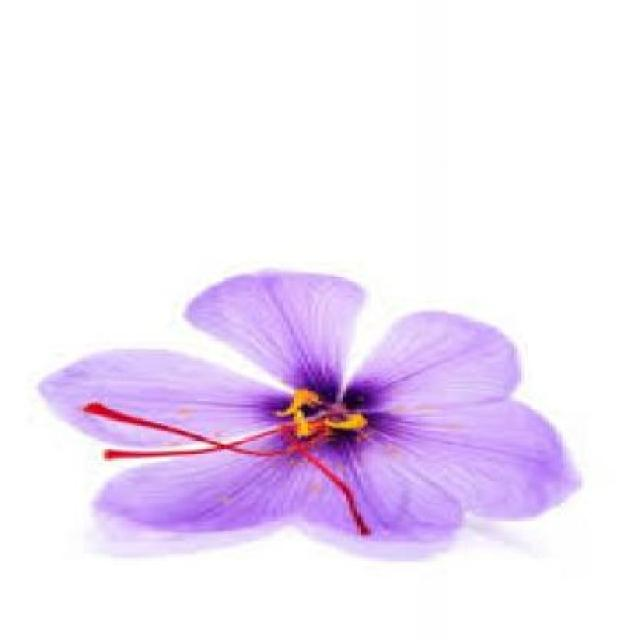saffron open: (40, 271, 578, 556)
